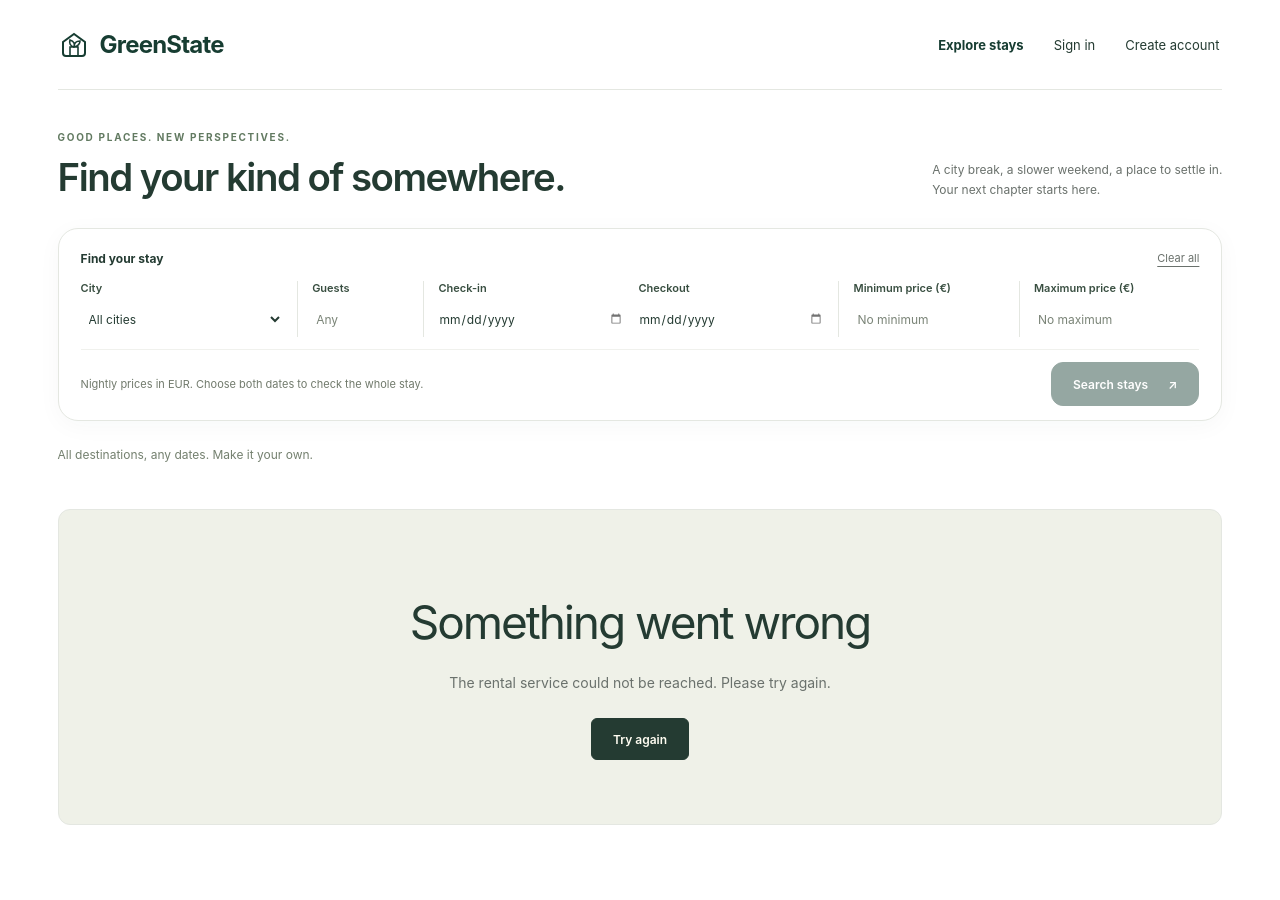
it: public screen states › recovers from a network error through the visible retry action
The width and height of the screenshot is (1280, 900).
Expected: the message shows "could not be reached", [449,674,831,691]
Click the button "Try again" at [640, 739], box [591,718,689,760]
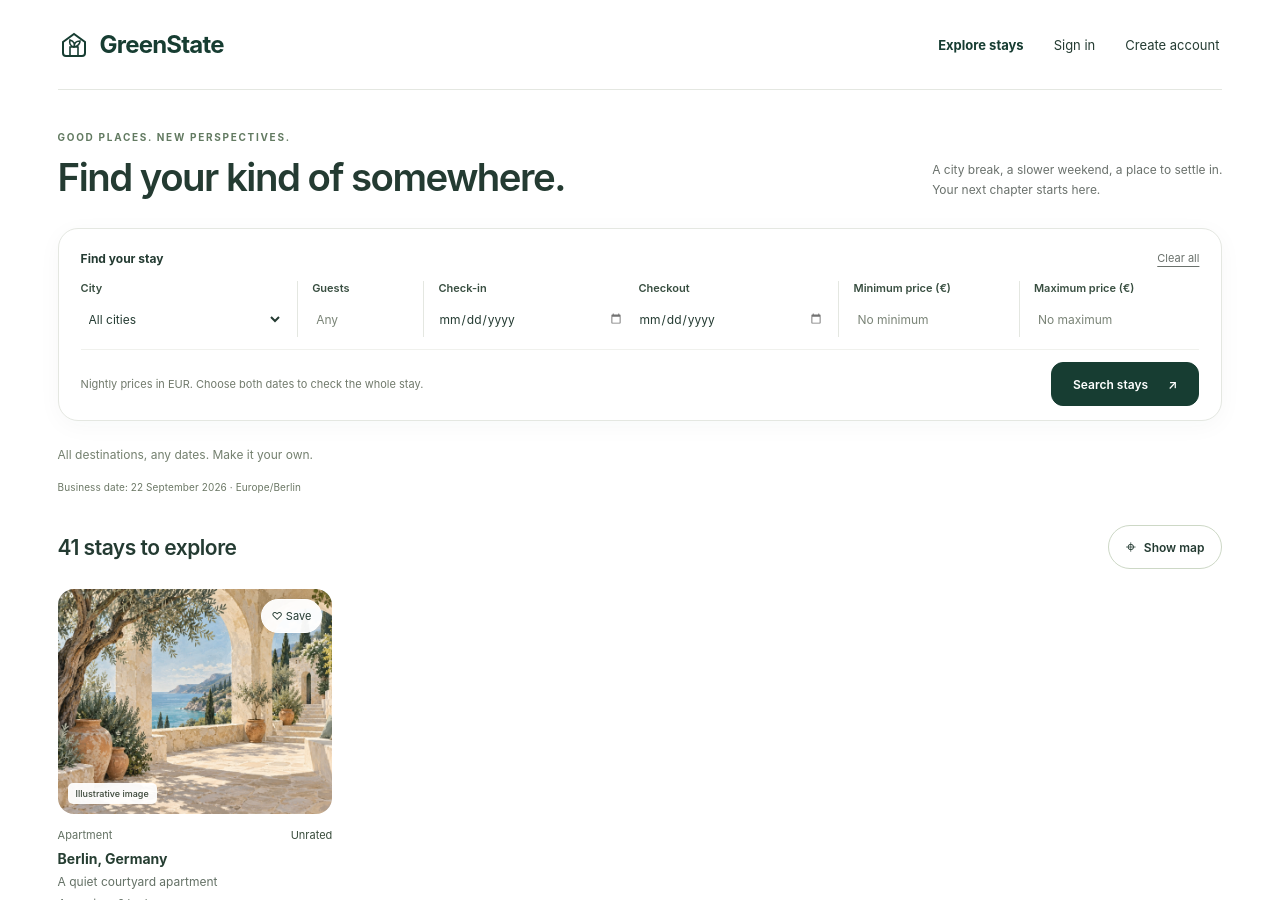
Expected: the link "A quiet courtyard apartment" is shown, [58,874,218,890]
